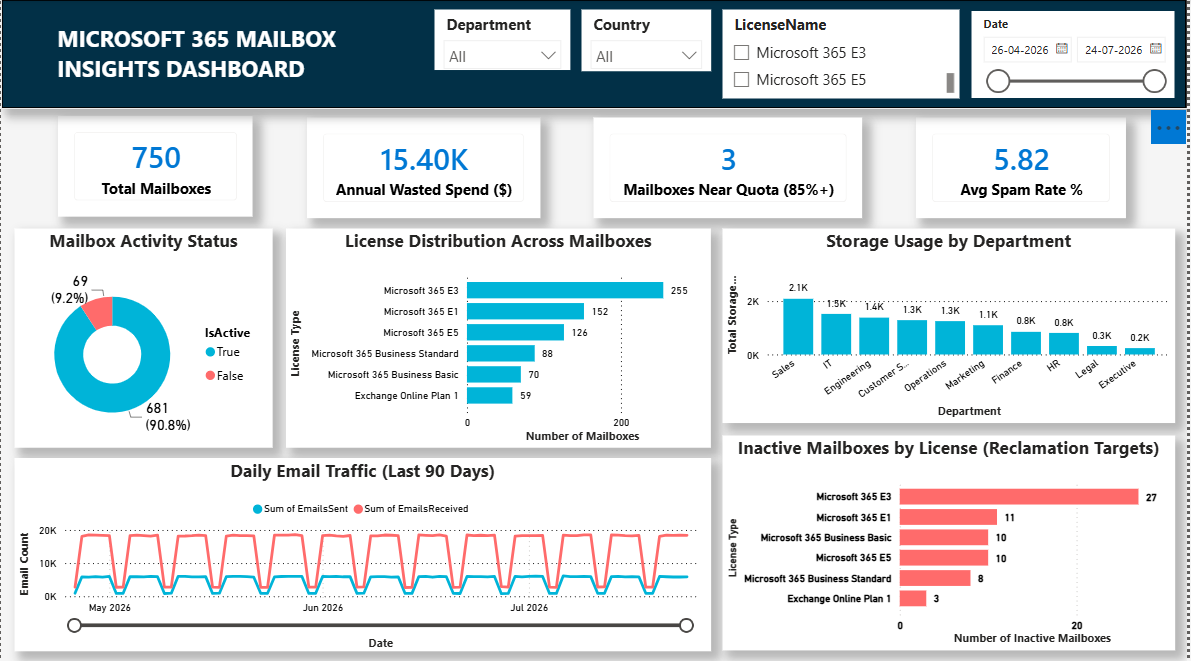

This screenshot's page, from the dashboard's own definition file:
{"tool":"powerbi","page":{"name":"Executive Dashboard","canvas":[1280,720],"ordinal":0},"visuals":[{"type":"cardVisual","fields":{"Data":["Count(Mailboxes.MailboxID)"]},"box":[61.7,126.7,210,108.3],"z":0},{"type":"cardVisual","fields":{"Data":["Sum(Summary Metrics.Value)"]},"box":[330,128.3,251.7,108.3],"z":1000},{"type":"cardVisual","fields":{"Data":["Avg(MailFlow.SpamRatePct)"]},"box":[988.3,128.3,226.7,108.3],"z":2000},{"type":"textbox","box":[0,0,1280,118.3],"z":3000},{"type":"cardVisual","fields":{"Data":["Count(Mailboxes.MailboxID)"]},"box":[640,128.3,290,108.3],"z":4000},{"type":"slicer","fields":{"Values":["Departments.Department"]},"box":[468.3,11.7,146.7,65],"z":5000},{"type":"slicer","fields":{"Values":["Mailboxes.Country"]},"box":[626.7,11.7,140,66.7],"z":6000},{"type":"slicer","fields":{"Values":["Licenses.LicenseName"]},"box":[778.3,11.7,255,95],"z":7000},{"type":"slicer","fields":{"Values":["MailFlow.Date"]},"box":[1048.3,13.3,218.3,93.3],"z":8000},{"type":"donutChart","title":"Mailbox Activity Status","fields":{"Category":["Mailboxes.IsActive"],"Y":["Count(Mailboxes.MailboxID)"]},"box":[15,248.3,278.3,236.7],"z":9000},{"type":"barChart","title":"License Distribution Across Mailboxes","fields":{"Category":["Licenses.LicenseName"],"Y":["CountNonNull(Mailboxes.MailboxID)"]},"box":[308.3,248.3,458.3,236.7],"z":10000},{"type":"clusteredColumnChart","title":"Storage Usage by Department","fields":{"Category":["Departments.Department"],"Y":["Sum(Mailboxes.MailboxSizeGB)"]},"box":[778.3,248.3,488.3,210],"z":11000},{"type":"lineChart","title":"Daily Email Traffic (Last 90 Days)","fields":{"Y":["Sum(MailFlow.EmailsSent)","Sum(MailFlow.EmailsReceived)"],"Category":["MailFlow.Date"]},"box":[15,495,751.7,208.3],"z":12000},{"type":"clusteredBarChart","title":"Inactive Mailboxes by License (Reclamation Targets)","fields":{"Category":["Licenses.LicenseName"],"Y":["CountNonNull(Mailboxes.MailboxID)"]},"box":[778.3,471.7,488.3,231.7],"z":13000}]}

Visuals, with their boxes in screenshot pixels (x1, y1, x2, y2), scaled from the page's 1280x720 canvas onto the 1191x661 screenshot:
cardVisual - Count(Mailboxes.MailboxID): bbox=[57, 116, 253, 216]
cardVisual - Sum(Summary Metrics.Value): bbox=[307, 118, 541, 217]
cardVisual - Avg(MailFlow.SpamRatePct): bbox=[920, 118, 1131, 217]
textbox: bbox=[0, 0, 1190, 109]
cardVisual - Count(Mailboxes.MailboxID): bbox=[596, 118, 865, 217]
slicer - Departments.Department: bbox=[436, 11, 572, 70]
slicer - Mailboxes.Country: bbox=[583, 11, 713, 72]
slicer - Licenses.LicenseName: bbox=[724, 11, 961, 98]
slicer - MailFlow.Date: bbox=[975, 12, 1179, 98]
"Mailbox Activity Status" donutChart: bbox=[14, 228, 273, 445]
"License Distribution Across Mailboxes" barChart: bbox=[287, 228, 713, 445]
"Storage Usage by Department" clusteredColumnChart: bbox=[724, 228, 1179, 421]
"Daily Email Traffic (Last 90 Days)" lineChart: bbox=[14, 454, 713, 646]
"Inactive Mailboxes by License (Reclamation Targets)" clusteredBarChart: bbox=[724, 433, 1179, 646]
